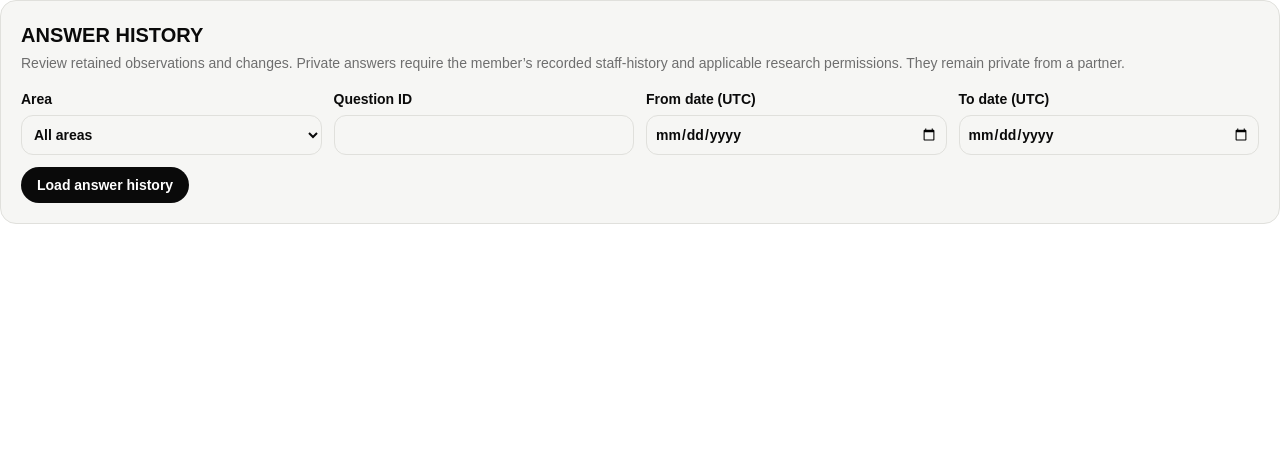
Test: the person_intake area sends its actual retained producer domain
This screenshot has width=1280, height=471.
Select "People observations" in the dropdown labelled "Area" at (171, 135), box x1=21 y1=115 x2=322 y2=155
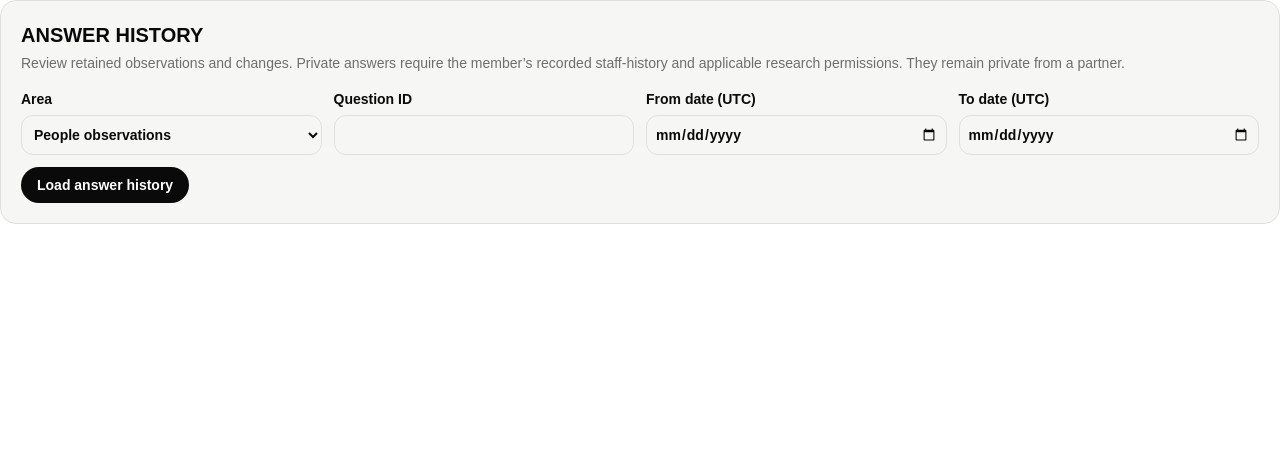
Submit the form, box x1=21 y1=89 x2=1259 y2=203
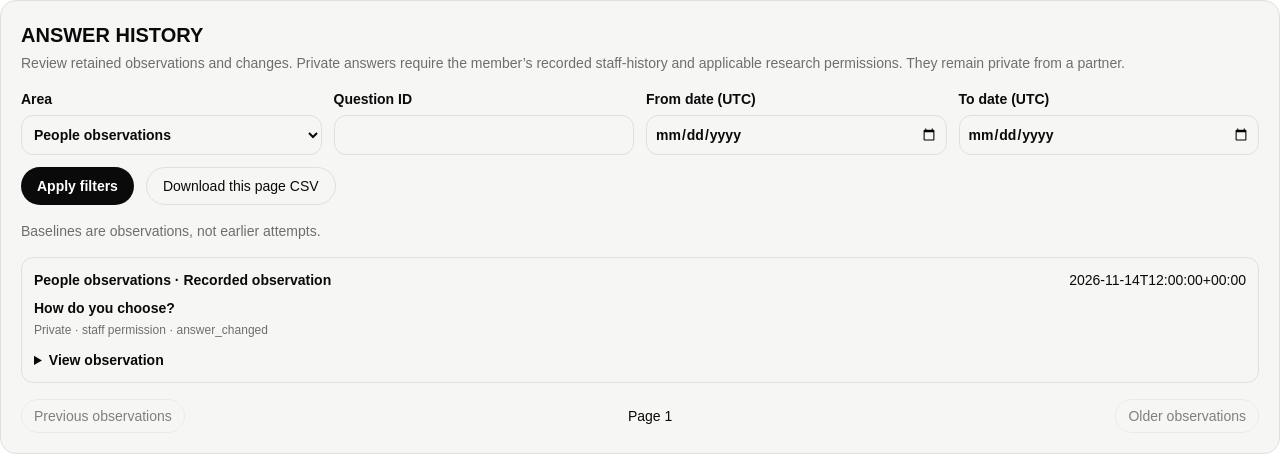
Now the list named "Answer observations" shows "People observations", box x1=34 y1=272 x2=171 y2=288
